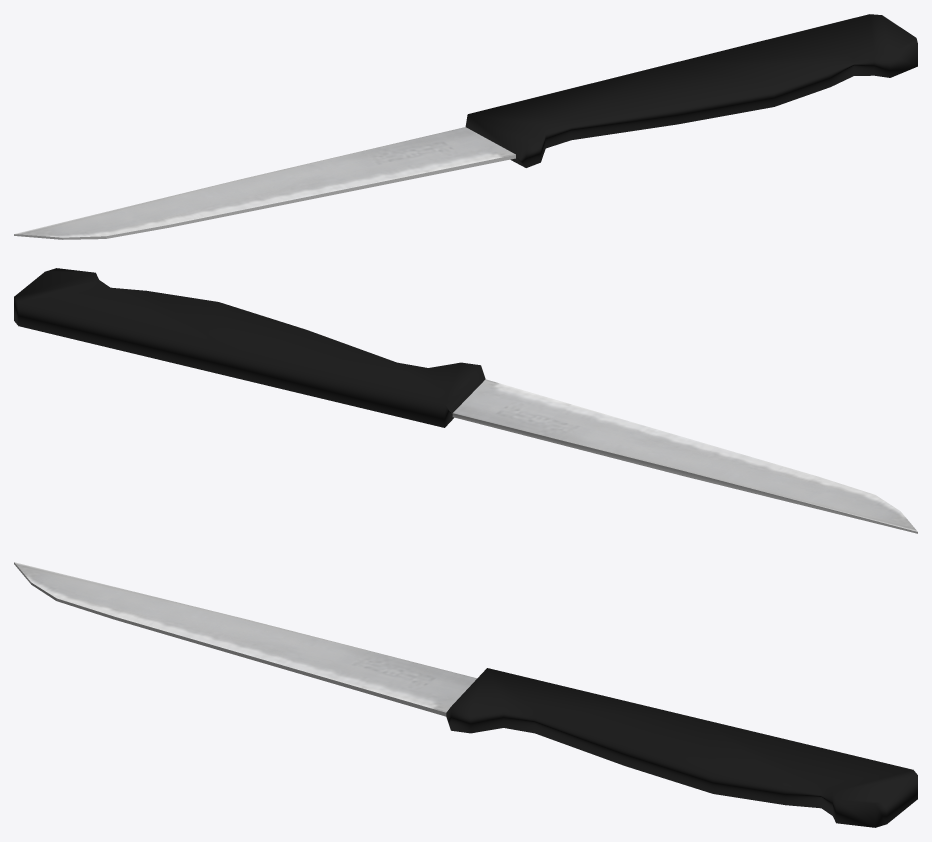
Rendered from steakKnive.fbx.
3 renders of one model, top to bottom at view 1: azimuth 30°, elevation 25°; view 2: azimuth 150°, elevation 25°; view 3: azimuth 330°, elevation 25°, orthographic. The views are drawn at different scales.
Visible parts, largest first — view 1: steakKnive; view 2: steakKnive; view 3: steakKnive.
Part boxes in pixels (x1,y1,x2,y2): steakKnive: [14, 14, 917, 239]; steakKnive: [14, 268, 917, 533]; steakKnive: [14, 562, 917, 827].
Size of the model in its own units: 0.3535 by 0.0089 by 0.0343.
Materials: 1 (1 with a texture image).
